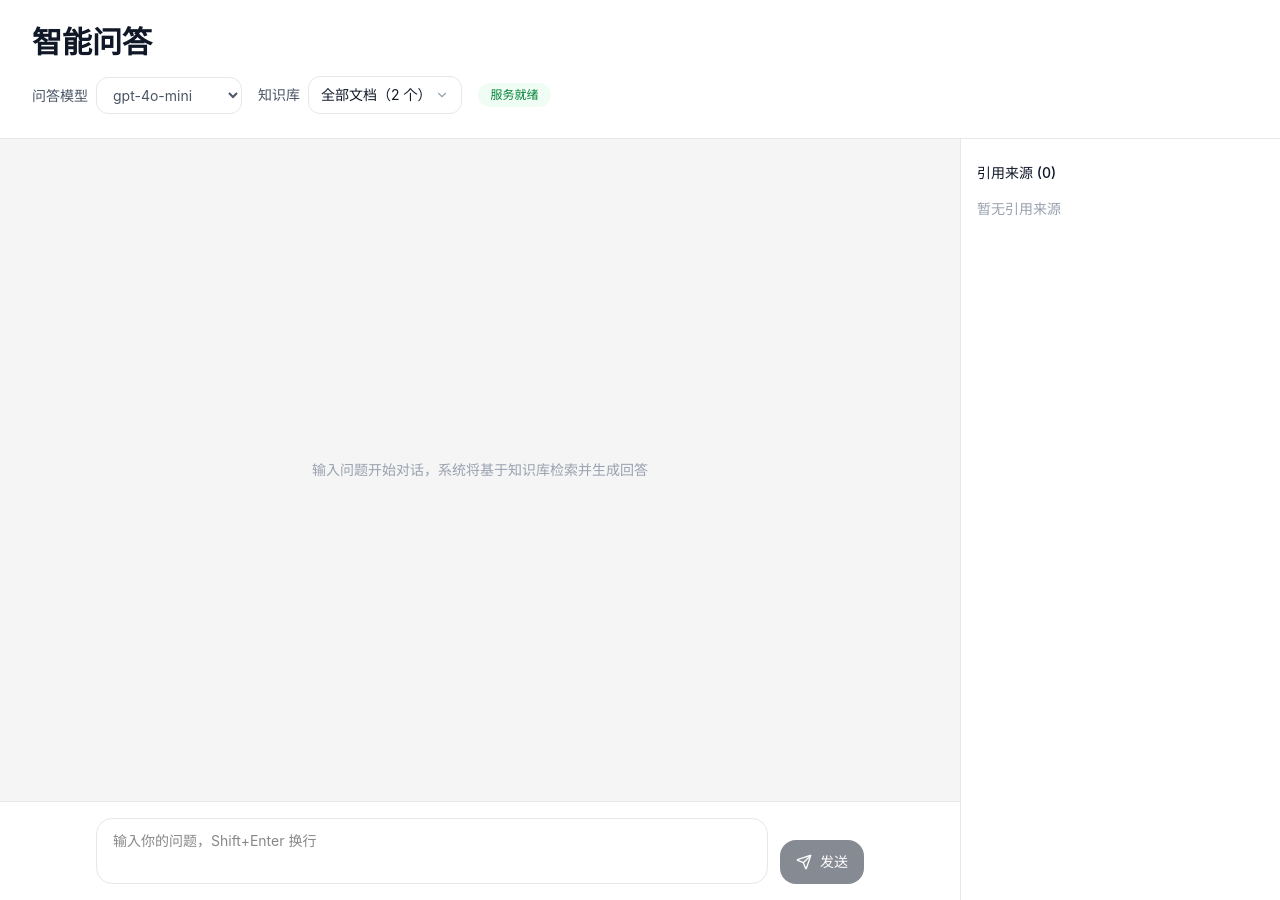
Test: ChatPage › 问答失败时展示 ApiError 信息
This screenshot has width=1280, height=900.
Expected: the button "全部文档（2 个）" is shown, [308, 76, 462, 114]
Step 1. Type "测试问题" into the text box with placeholder "输入你的问题，Shift+Enter 换行" → x=432, y=851, box [96, 818, 768, 884]
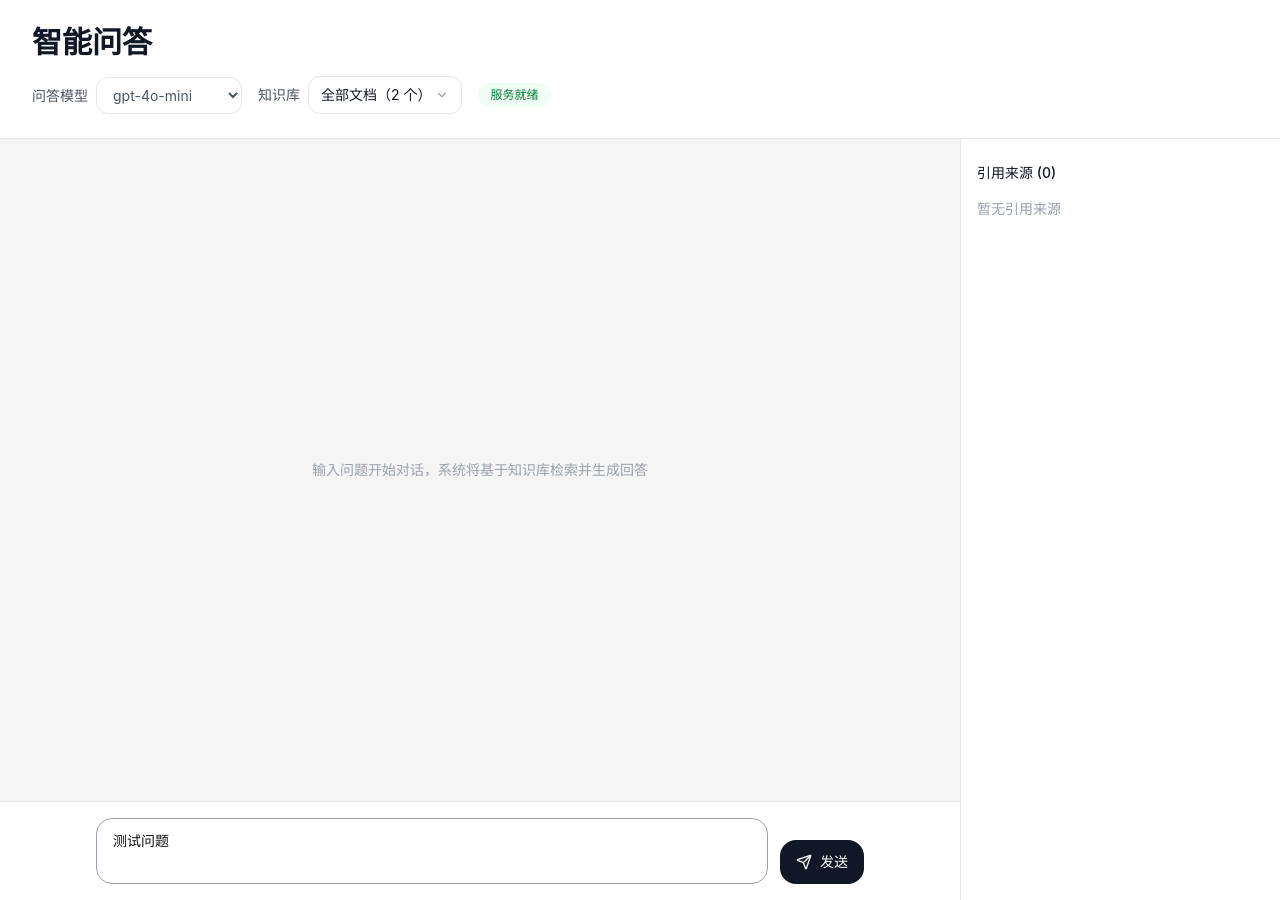
Step 2. Click the button "发送" → x=822, y=862, box [780, 840, 864, 884]
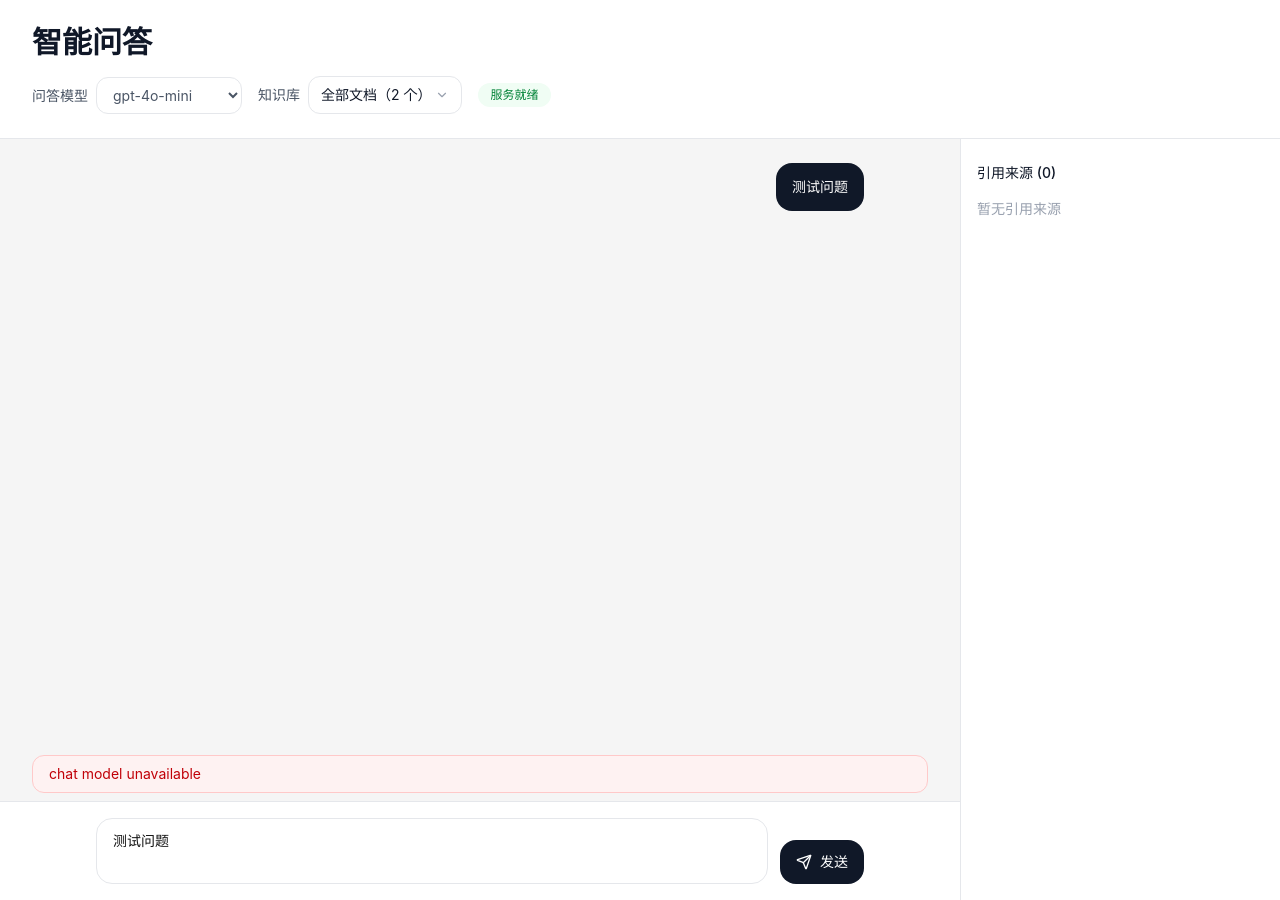
Expected: the text "chat model unavailable" is shown, [32, 755, 928, 793]
